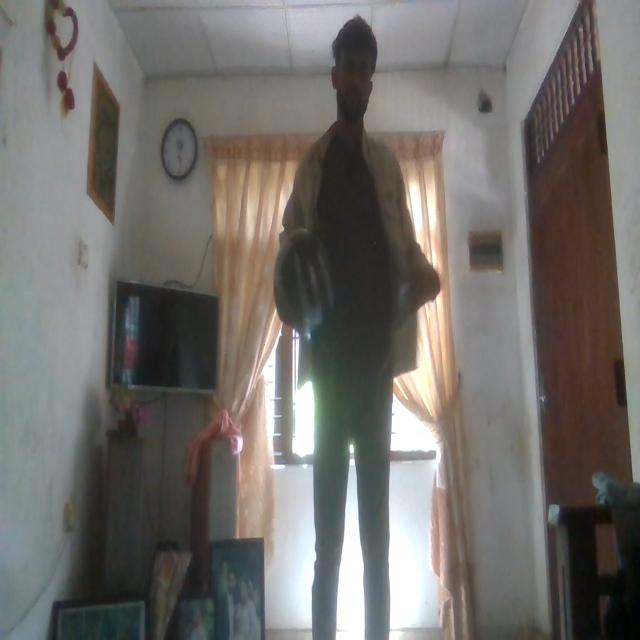Jacket_Wearer: (277, 120, 439, 373)
Person: (278, 21, 438, 640)
